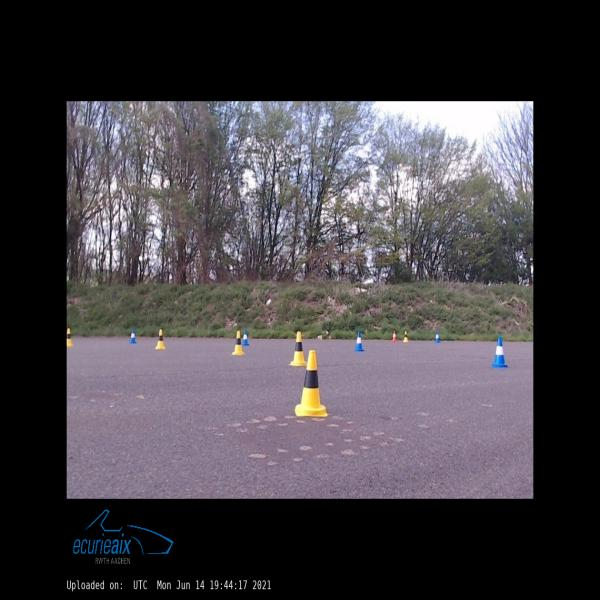blue_cone: (492, 338, 508, 367), (355, 332, 364, 352), (242, 331, 249, 346), (130, 329, 136, 343), (435, 331, 440, 343)
orange_cone: (392, 331, 397, 341)
yellow_cone: (295, 350, 328, 416), (289, 332, 307, 365), (232, 331, 244, 355), (156, 330, 166, 349), (67, 328, 73, 346), (403, 330, 408, 342)
